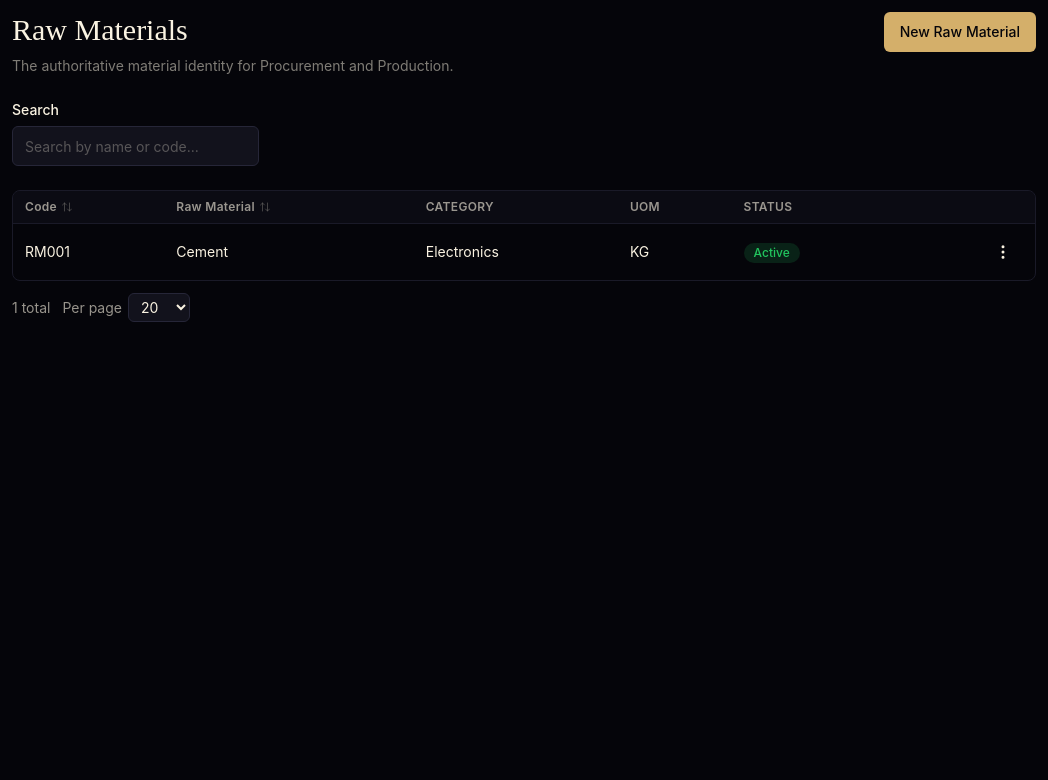
Test: RawMaterialsPage › creating a raw material shows a server-side name conflict as a form error
Expected: the text "Cement" is shown, x1=164 y1=224 x2=414 y2=280
Click the button "New Raw Material". click: (960, 32)
box: x1=884 y1=12 x2=1036 y2=52
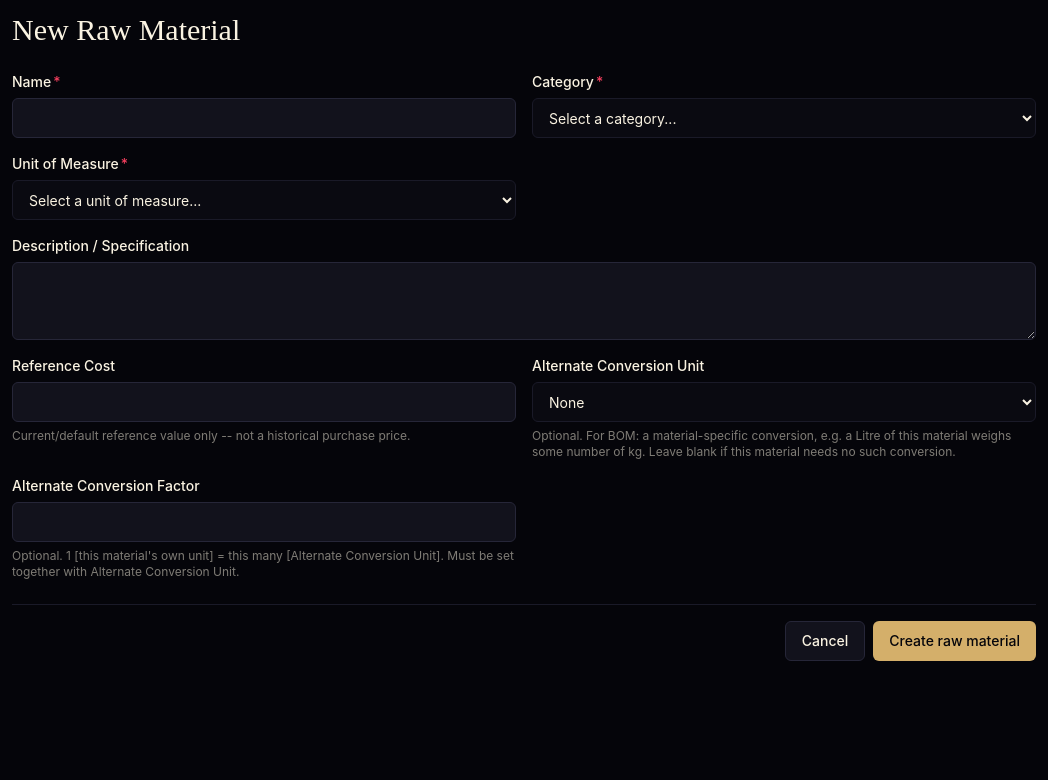
Type "Duplicate" into the field labelled "Name". click: (264, 118)
box: x1=12 y1=98 x2=516 y2=138
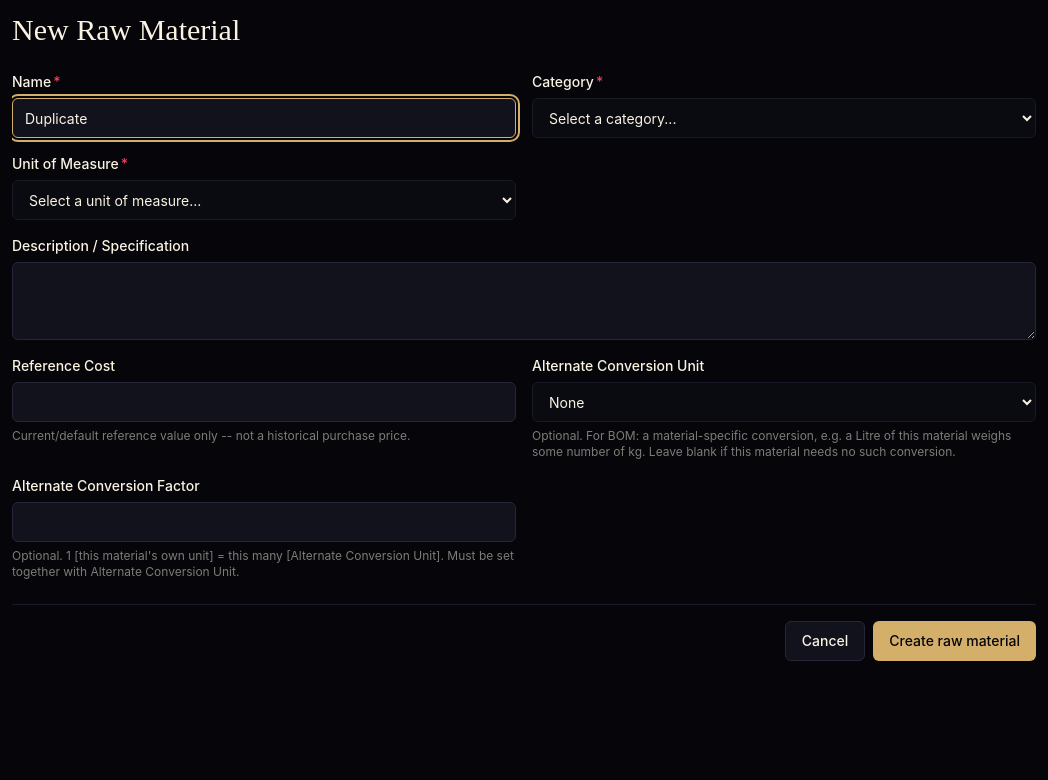
Select "Electronics" in the dropdown labelled "Category". click: (784, 118)
box: x1=532 y1=98 x2=1036 y2=138
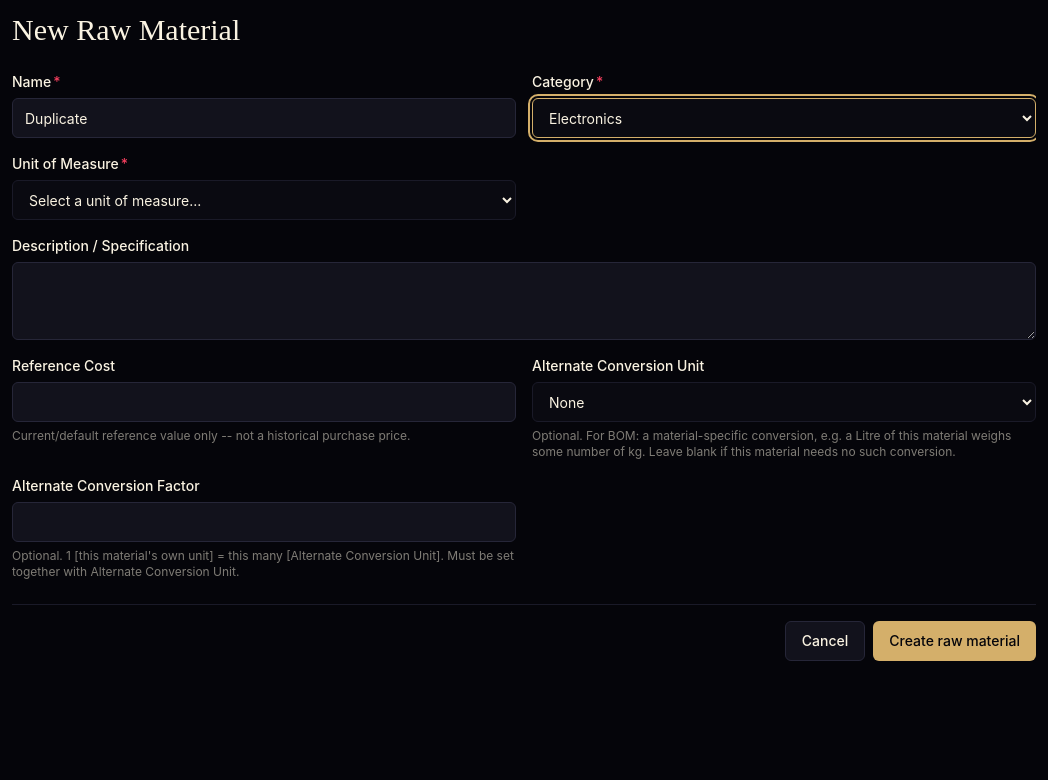
Select "Kilogram (KG)" in the dropdown labelled "Unit of Measure". click: (264, 200)
box: x1=12 y1=180 x2=516 y2=220
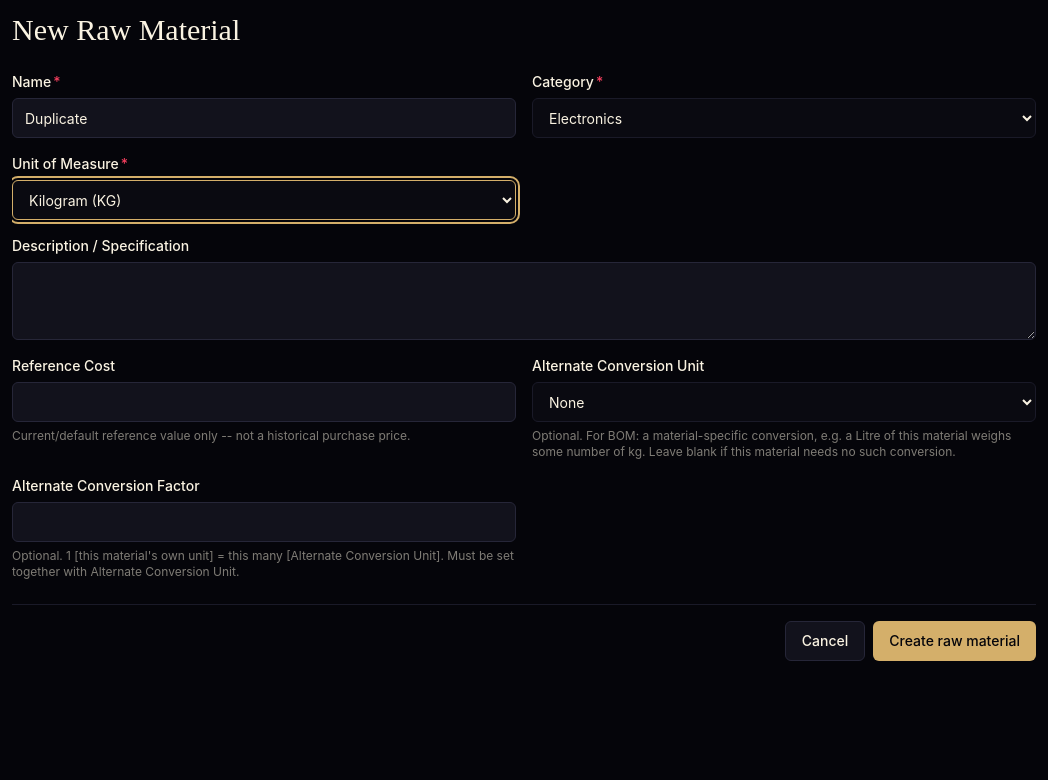
Click the button "Create raw material". click: (955, 641)
box: x1=873 y1=621 x2=1036 y2=661
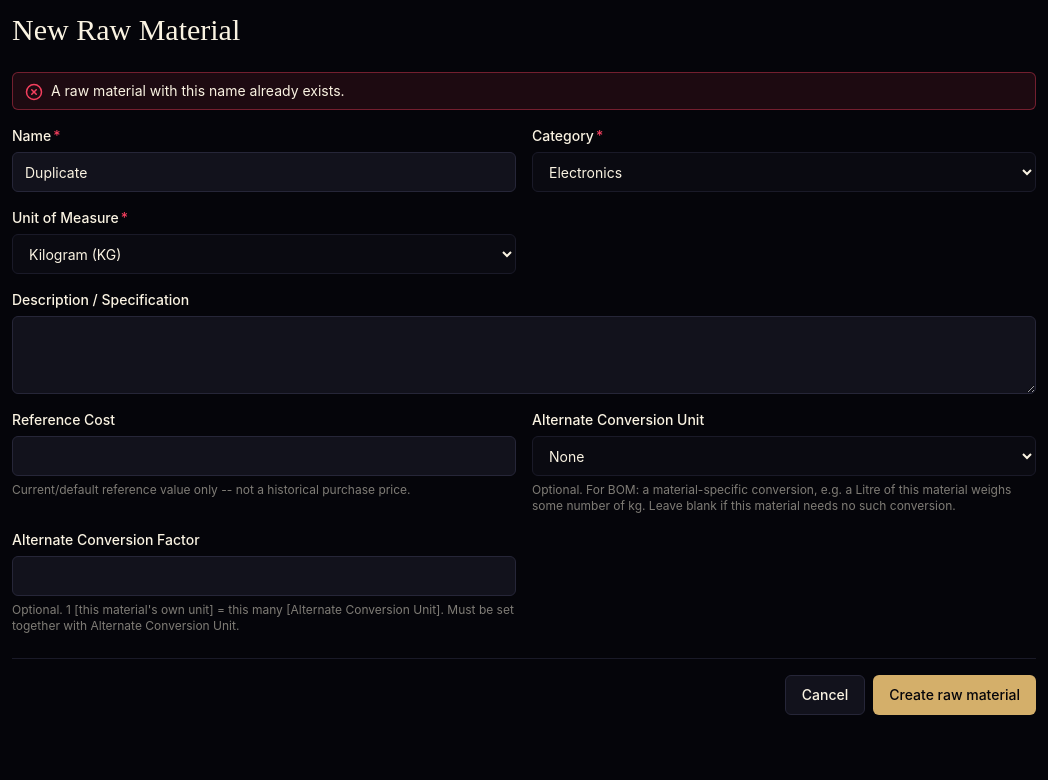
Result: the text "A raw material with this name already exists." is shown at x1=51 y1=81 x2=345 y2=101
